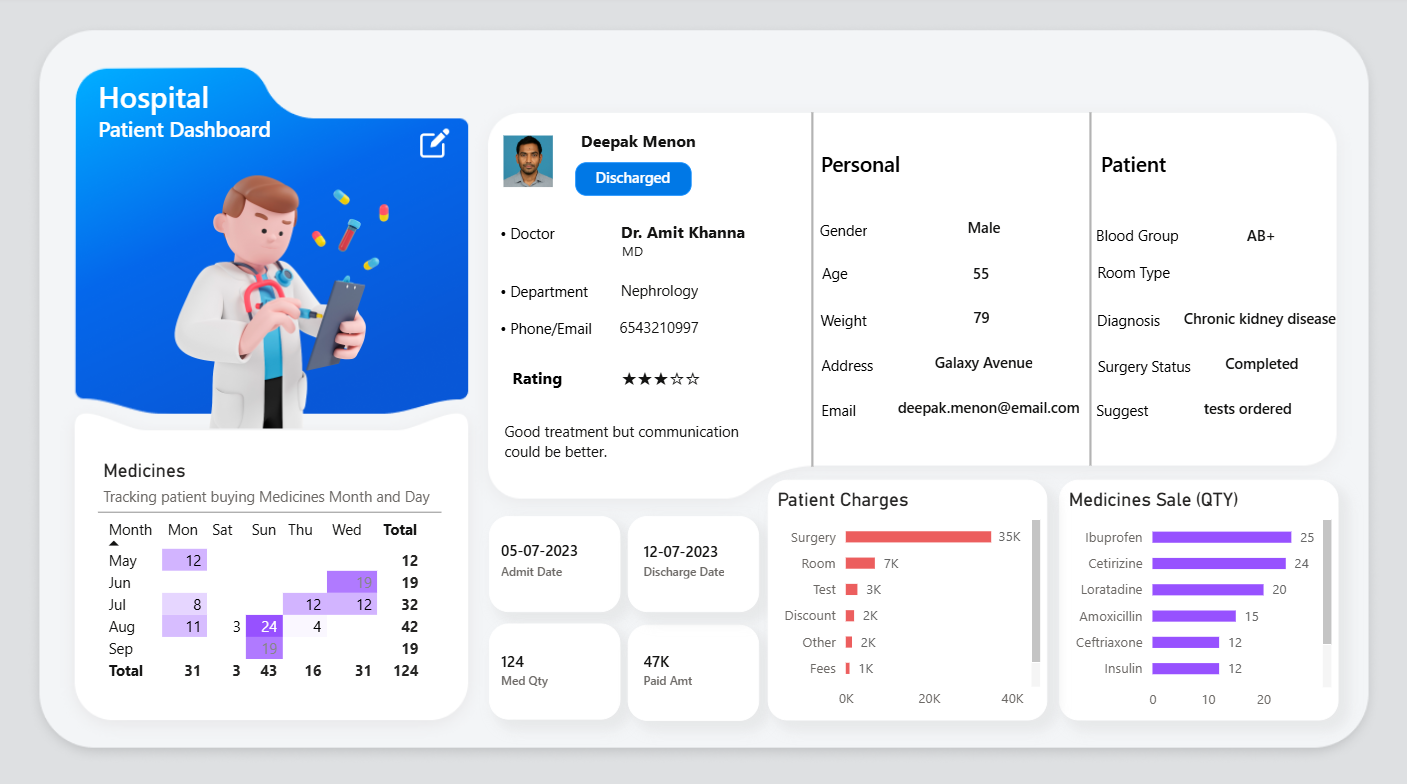

What the dashboard file says about the page in this screenshot:
{"tool":"powerbi","page":{"name":"Page 1","canvas":[1280,720],"ordinal":0},"visuals":[{"type":"image","box":[138.4,137.2,243,267.4],"z":0},{"type":"textbox","box":[84.9,68.6,320.9,102.3],"z":1000},{"type":"image","box":[377,120.2,37.4,26.1],"z":2000},{"type":"pivotTable","title":"Medicines","fields":{"Values":["Sum(medicine_patient.qty)"],"Rows":["Calender.Month"],"Columns":["Calender.Day"]},"box":[89.5,420.9,311.6,209.3],"z":3000},{"type":"clusteredBarChart","title":"Medicines Sale (QTY)","fields":{"Category":["medicine_stock_info.name"],"Y":["Sum(medicine_patient.qty)"]},"box":[961.6,439,253.5,218.6],"z":4000},{"type":"clusteredBarChart","title":"Patient Charges","fields":{"Category":["bills.Charge_Type"],"Y":["Sum(bills.Value)"]},"box":[698,439,253.5,218],"z":5000},{"type":"cardVisual","fields":{"Data":["_Measures.Total_Med_Sale_QTY"]},"box":[444.2,572.1,104.7,82.6],"z":6000},{"type":"cardVisual","fields":{"Data":["Min(patient_info.patient_discharge_date)"]},"box":[574.4,472.1,104.7,82.6],"z":7000},{"type":"cardVisual","fields":{"Data":["Min(patient_info.patient_admission_date)"]},"box":[444.2,472.1,104.7,82.6],"z":8000},{"type":"cardVisual","fields":{"Data":["_Measures.Total_Bill_Amt"]},"box":[574.4,572.1,104.7,82.6],"z":9000},{"type":"cardVisual","fields":{"Data":["Min(patient_info.patient_Img)"]},"box":[446,79,69.8,94.2],"z":10000},{"type":"cardVisual","fields":{"Data":["Min(patient_info.patient_name)"]},"box":[523.3,110.5,125.6,46.5],"z":11000},{"type":"cardVisual","fields":{"Data":["Min(patient_info.patient_status)"]},"box":[523.3,151.2,105.8,30.2],"z":12000},{"type":"shape","box":[454.7,201.2,104.7,29.1],"z":13000},{"type":"cardVisual","fields":{"Data":["Min(patient_info.doctor_name)"]},"box":[559,193,125.6,46.5],"z":14000},{"type":"cardVisual","fields":{"Data":["Min(patient_info.doctor_qualification)"]},"box":[560,210,129.1,46.5],"z":15000},{"type":"shape","box":[454.8,253,104.3,28.4],"z":16000},{"type":"cardVisual","fields":{"Data":["Min(patient_info.doctor_department)"]},"box":[559.3,245,125.6,46.5],"z":17000},{"type":"shape","box":[445.5,331.4,104.5,28.8],"z":18000},{"type":"cardVisual","fields":{"Data":["_Measures.Sum of satisfaction_rating star rating"]},"box":[537.9,324.2,126.1,46.8],"z":19000},{"type":"cardVisual","fields":{"Data":["Min(patient_info.satisfaction_feedback)"]},"box":[453.9,371,241.4,68.4],"z":20000},{"type":"shape","box":[864.5,104.5,252.2,320.6],"z":21000},{"type":"shape","box":[611.2,104,253.4,321.8],"z":22000},{"type":"shape","box":[733,136.9,142.9,28.8],"z":23000},{"type":"shape","box":[724,196.9,104.5,28.8],"z":24000},{"type":"shape","box":[715.6,236.5,104.5,28.8],"z":25000},{"type":"shape","box":[738.5,319.4,81.7,28.8],"z":26000},{"type":"shape","box":[727.7,360.2,86.5,28.8],"z":27000},{"type":"cardVisual","fields":{"Data":["Min(patient_info.patient_gender)"]},"box":[830.2,191.7,127,38.6],"z":28000},{"type":"cardVisual","fields":{"Data":["Sum(patient_info.patient_age)"]},"box":[836.9,232,108.1,40.8],"z":29000},{"type":"cardVisual","fields":{"Data":["Min(patient_info.patient_address)"]},"box":[820.1,315.8,147.7,37.2],"z":30000},{"type":"cardVisual","fields":{"Data":["Min(patient_info.patient_email)"]},"box":[806.9,356.6,183.7,36],"z":31000},{"type":"shape","box":[987,136.9,142.9,28.8],"z":32000},{"type":"shape","box":[724.1,278.6,104.5,28.8],"z":33000},{"type":"shape","box":[987,236,104.5,28.8],"z":34000},{"type":"shape","box":[990.6,201.7,104.5,28.8],"z":35000},{"type":"shape","box":[982,278.6,104.5,28.8],"z":36000},{"type":"cardVisual","fields":{"Data":["Sum(patient_info.patient_weight)"]},"box":[828,273.3,127,38.6],"z":37000},{"type":"cardVisual","fields":{"Data":["Min(patient_info.room_room_type)"]},"box":[1091.1,233.6,107.8,35.2],"z":38000},{"type":"cardVisual","fields":{"Data":["Min(patient_info.patient_blood_group)"]},"box":[1072.3,199.3,147.7,37.2],"z":39000},{"type":"cardVisual","fields":{"Data":["Min(appointment.diagnosis)"]},"box":[1053.1,276.2,183.7,36],"z":40000},{"type":"shape","box":[455.1,285.8,104.5,30],"z":41000},{"type":"cardVisual","fields":{"Data":["Min(patient_info.doctor_phone)"]},"box":[558.2,279.1,179.2,44.5],"z":42000},{"type":"shape","box":[996.6,320.6,120.1,28.8],"z":43000},{"type":"cardVisual","fields":{"Data":["Min(patient_info.surgery_status)"]},"box":[1075.9,317,139.3,36],"z":44000},{"type":"shape","box":[977,360.2,104.5,28.8],"z":45000},{"type":"cardVisual","fields":{"Data":["Min(appointment.suggest)"]},"box":[1048.3,356.6,170.5,38.4],"z":46000}]}

Visuals, with their boxes in screenshot pixels (x1, y1, x2, y2), scaled from the page's 1280x720 canvas onto the 1407x784 screenshot:
image: (152,149,419,441)
textbox: (93,75,446,186)
image: (414,131,456,159)
"Medicines" pivotTable: (98,458,441,686)
"Medicines Sale (QTY)" clusteredBarChart: (1057,478,1336,716)
"Patient Charges" clusteredBarChart: (767,478,1046,715)
cardVisual - _Measures.Total_Med_Sale_QTY: (488,623,603,713)
cardVisual - Min(patient_info.patient_discharge_date): (631,514,746,604)
cardVisual - Min(patient_info.patient_admission_date): (488,514,603,604)
cardVisual - _Measures.Total_Bill_Amt: (631,623,746,713)
cardVisual - Min(patient_info.patient_Img): (490,86,567,189)
cardVisual - Min(patient_info.patient_name): (575,120,713,171)
cardVisual - Min(patient_info.patient_status): (575,165,692,198)
shape: (500,219,615,251)
cardVisual - Min(patient_info.doctor_name): (614,210,753,261)
cardVisual - Min(patient_info.doctor_qualification): (616,229,757,279)
shape: (500,275,615,306)
cardVisual - Min(patient_info.doctor_department): (615,267,753,317)
shape: (490,361,605,392)
cardVisual - _Measures.Sum of satisfaction_rating star rating: (591,353,730,404)
cardVisual - Min(patient_info.satisfaction_feedback): (499,404,764,478)
shape: (950,114,1227,463)
shape: (672,113,950,464)
shape: (806,149,963,180)
shape: (796,214,911,246)
shape: (787,258,901,289)
shape: (812,348,902,379)
shape: (800,392,895,424)
cardVisual - Min(patient_info.patient_gender): (913,209,1052,251)
cardVisual - Sum(patient_info.patient_age): (920,253,1039,297)
cardVisual - Min(patient_info.patient_address): (901,344,1064,384)
cardVisual - Min(patient_info.patient_email): (887,388,1089,427)
shape: (1085,149,1242,180)
shape: (796,303,911,335)
shape: (1085,257,1200,288)
shape: (1089,220,1204,251)
shape: (1079,303,1194,335)
cardVisual - Sum(patient_info.patient_weight): (910,298,1050,340)
cardVisual - Min(patient_info.room_room_type): (1199,254,1318,293)
cardVisual - Min(patient_info.patient_blood_group): (1179,217,1341,258)
cardVisual - Min(appointment.diagnosis): (1158,301,1360,340)
shape: (500,311,615,344)
cardVisual - Min(patient_info.doctor_phone): (614,304,811,352)
shape: (1095,349,1227,380)
cardVisual - Min(patient_info.surgery_status): (1183,345,1336,384)
shape: (1074,392,1189,424)
cardVisual - Min(appointment.suggest): (1152,388,1340,430)
